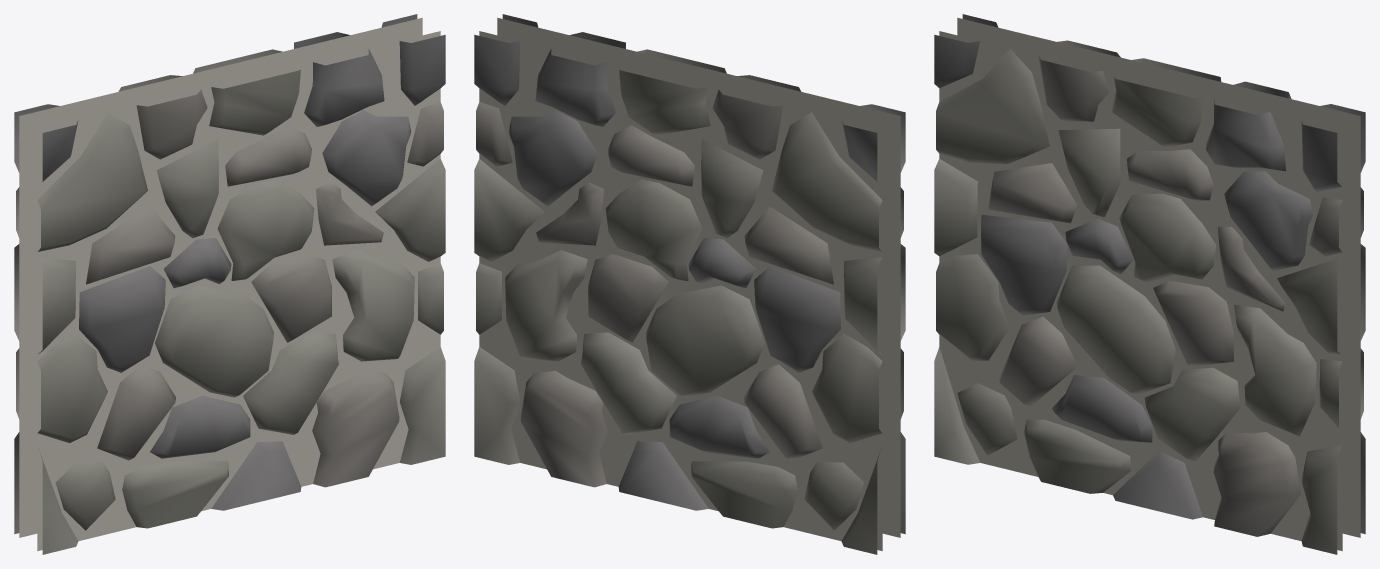
Rendered from rpgpp_ag_wall_04_3x3_a.fbx.
The picture shows the model from 3 angles, left to right: view 1: azimuth 30°, elevation 25°; view 2: azimuth 150°, elevation 25°; view 3: azimuth 330°, elevation 25°; orthographic projection.
Visible parts, largest first — view 1: rpgpp_ag_wall_04_3x3_a; view 2: rpgpp_ag_wall_04_3x3_a; view 3: rpgpp_ag_wall_04_3x3_a.
Boxes of the visible parts, x1=… form: rpgpp_ag_wall_04_3x3_a: x1=14, y1=14, x2=445, y2=554; rpgpp_ag_wall_04_3x3_a: x1=474, y1=14, x2=905, y2=554; rpgpp_ag_wall_04_3x3_a: x1=934, y1=14, x2=1365, y2=554.
Size of the model in its own units: 3 by 3 by 0.404.
